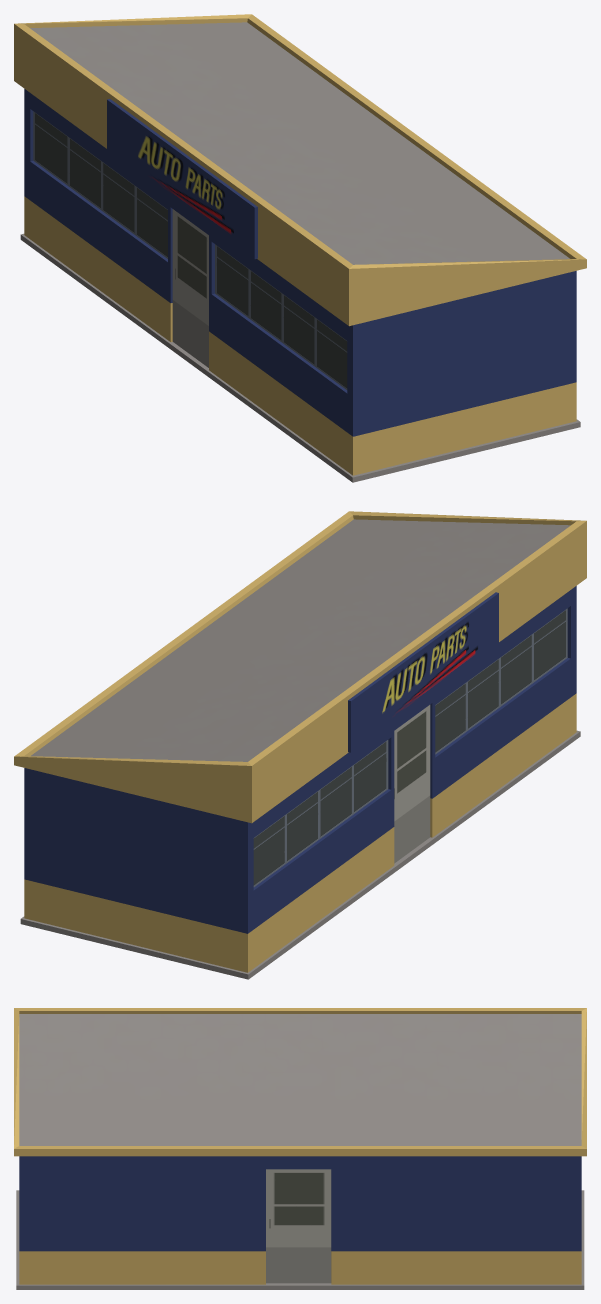
Rendered from shop2.fbx.
3 renders of one model, top to bottom at view 1: azimuth 30°, elevation 25°; view 2: azimuth 150°, elevation 25°; view 3: azimuth 270°, elevation 25°, orthographic. The views are drawn at different scales.
Parts seen in each view (by area): view 1: sptp_building_19; view 2: sptp_building_19; view 3: sptp_building_19.
Boxes of the visible parts, box(x1,y1,x2,y2) form: sptp_building_19: box(14, 14, 586, 482); sptp_building_19: box(14, 511, 586, 979); sptp_building_19: box(14, 1008, 586, 1289).
Bounding box in the file's own units: 417 × 357 × 1003.
Materials: 1 (1 with a texture image).
